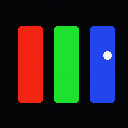0 point: (103, 51, 111, 59)
